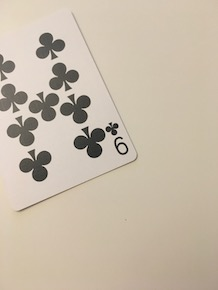NineOfClubs: (1, 8, 142, 214)
